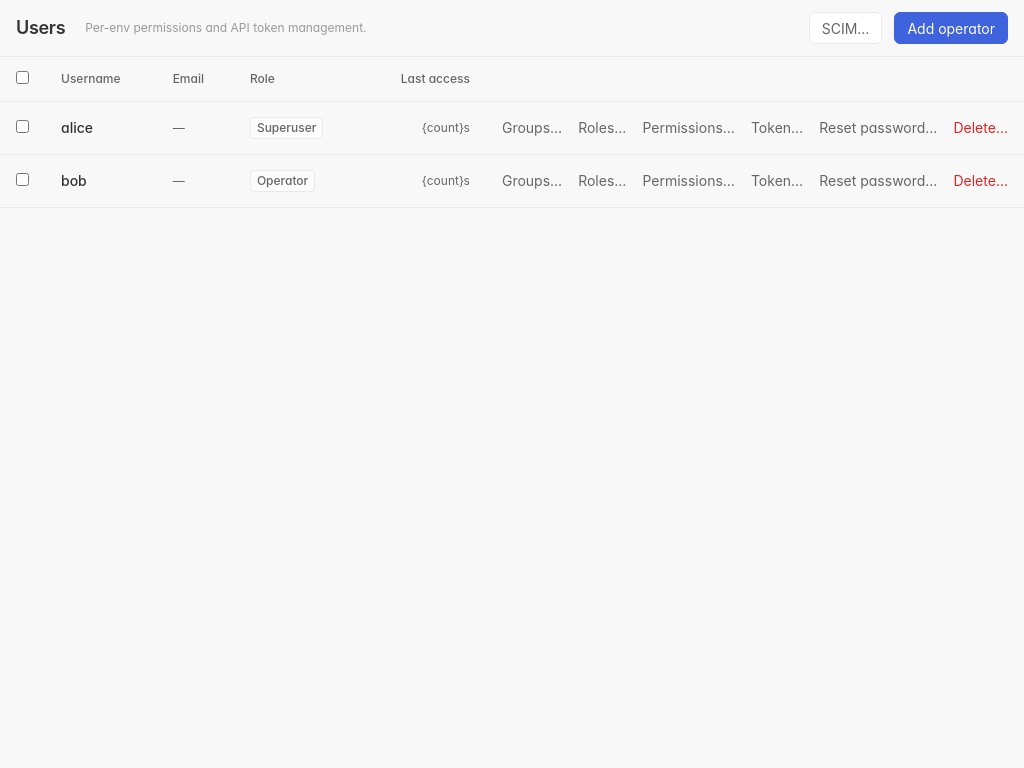
Test: UsersPage › roles modal shows server errors verbatim
Click the button "Roles…" in the row of "bob" at (602,181), box [570,167,634,195]
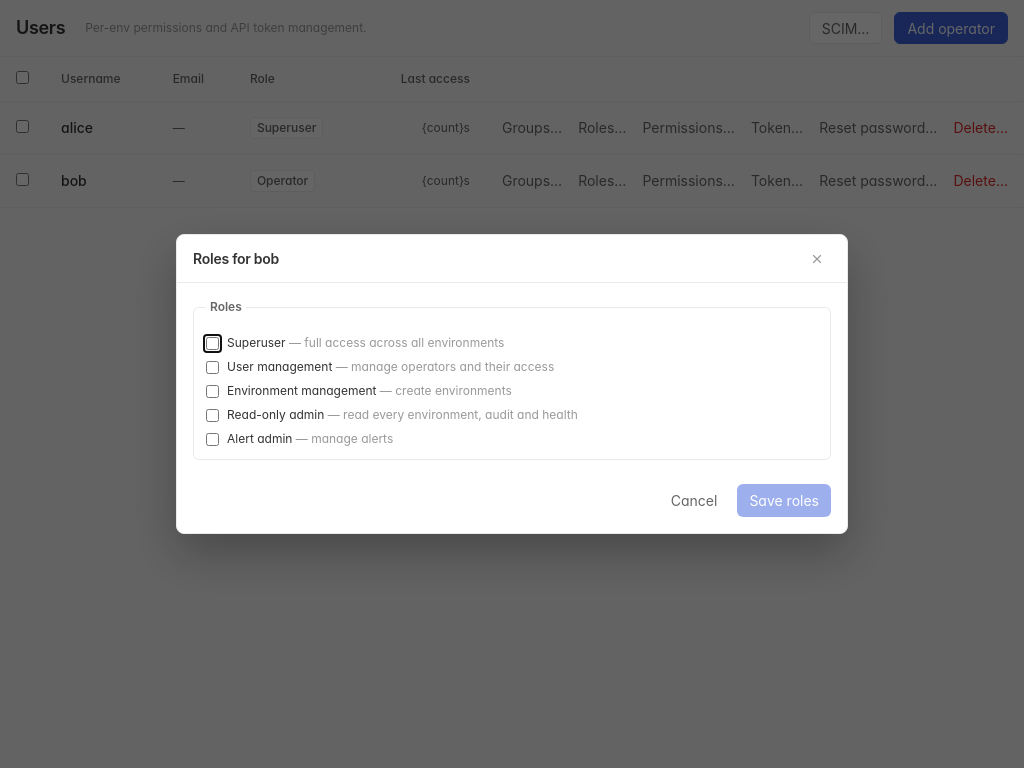
Click the checkbox labelled "Alert admin — manage alerts" at (212,439), box [206,432,219,446]
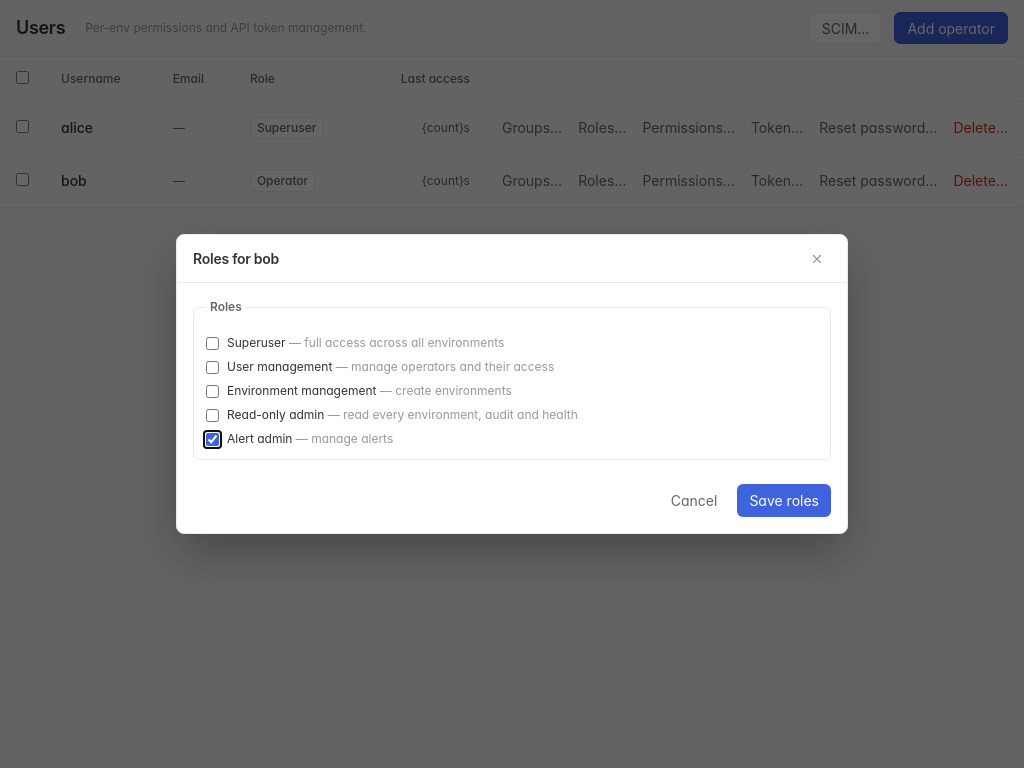
Click the button "Save roles" at (784,500), box [737,484,831,517]
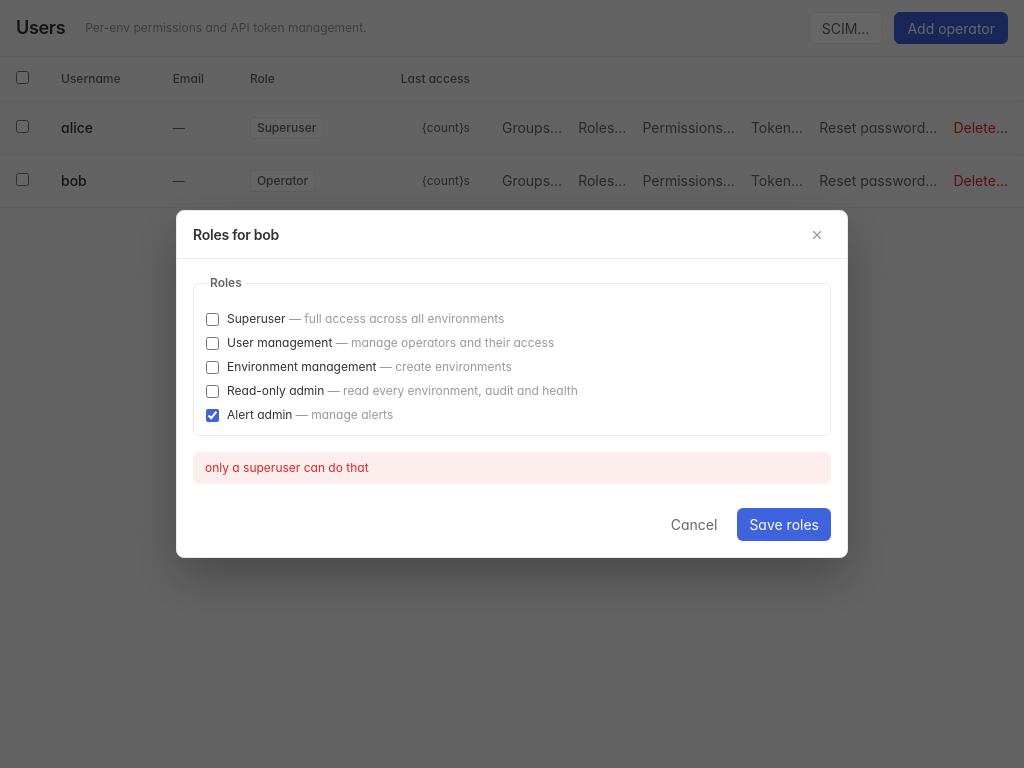
Expected: the message reads "only a superuser can do that", [205,460,369,475]
